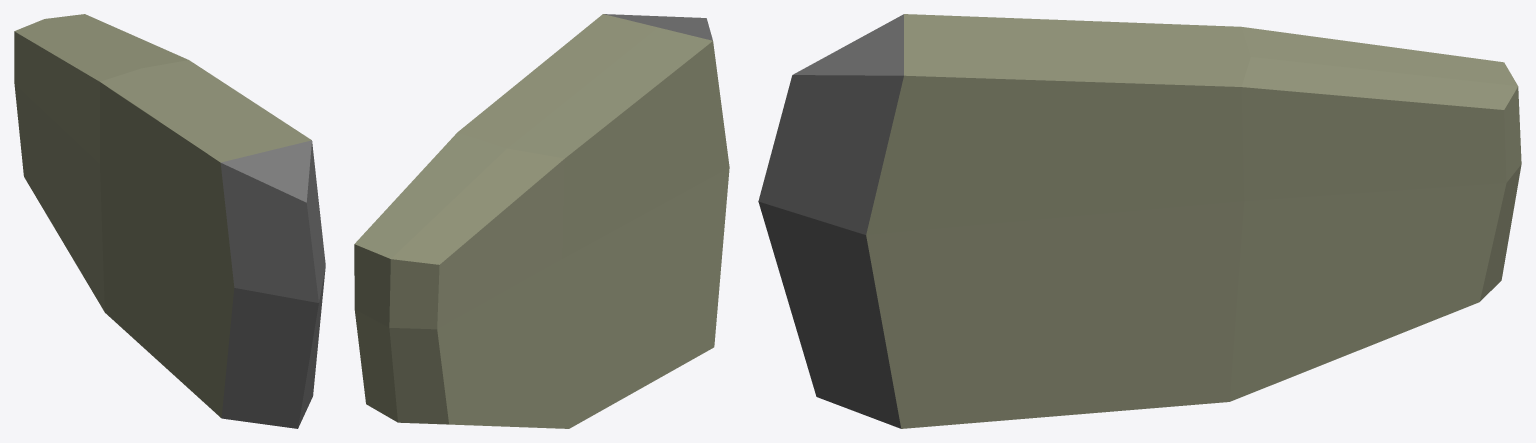
Rendered from Axe Head.glb.
3 renders of one model, left to right at view 1: azimuth 30°, elevation 25°; view 2: azimuth 150°, elevation 25°; view 3: azimuth 270°, elevation 25°, orthographic. The views are drawn at different scales.
Visible parts, largest first — view 1: Axe Head; view 2: Axe Head; view 3: Axe Head.
Boxes of the visible parts, x1,y1,x2,y2 form: Axe Head: [14, 14, 325, 428]; Axe Head: [354, 14, 729, 428]; Axe Head: [758, 14, 1521, 428].
Bounding box in the file's own units: 0.0765 × 0.2041 × 0.3997.
